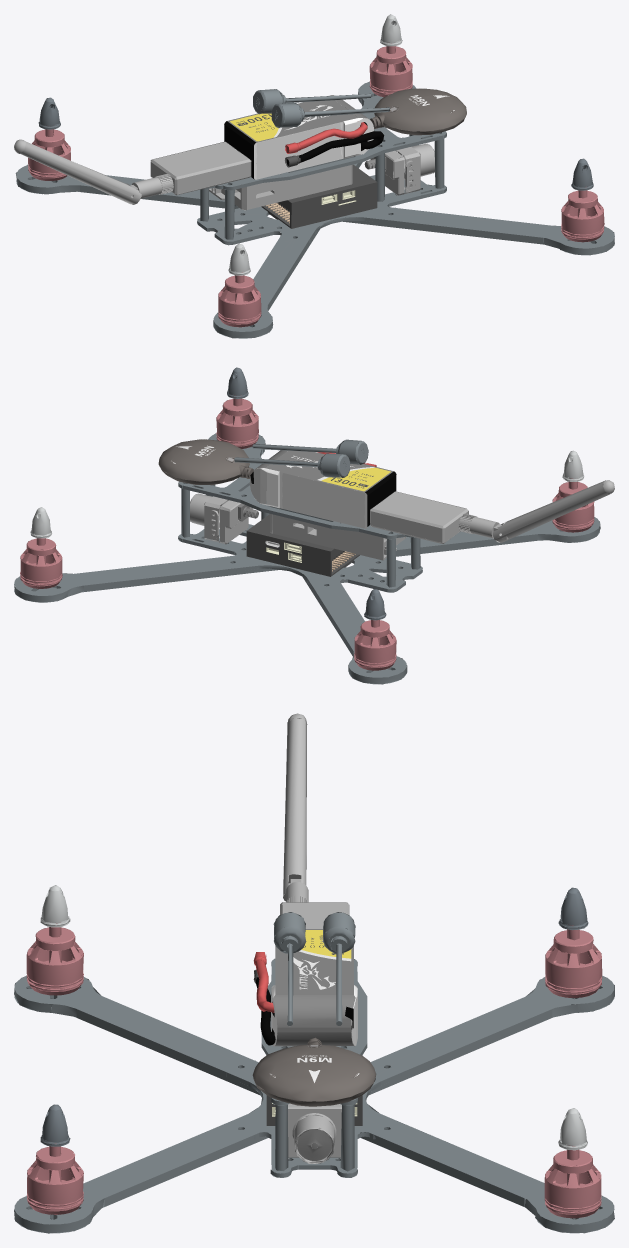
Rendered from halfinho_decimated.dae.
The picture shows the model from 3 angles, top to bottom: view 1: azimuth 30°, elevation 25°; view 2: azimuth 150°, elevation 25°; view 3: azimuth 270°, elevation 25°; orthographic projection. The views are drawn at different scales.
Parts seen in each view (by area): view 1: Object.002; view 2: Object.002; view 3: Object.002.
Boxes of the visible parts, box(x1,y1,x2,y2) form: Object.002: box(14, 14, 614, 338); Object.002: box(14, 367, 614, 684); Object.002: box(14, 713, 614, 1233).
Bounding box in the file's own units: 0.3128 × 0.2444 × 0.0891.
